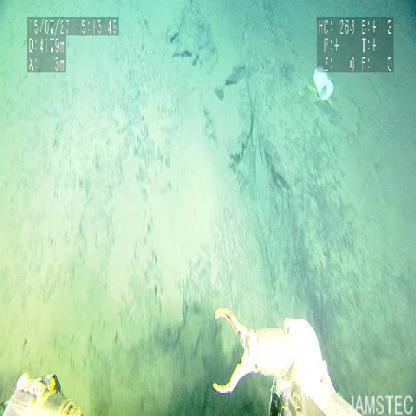Rác: (314, 71, 334, 102)
